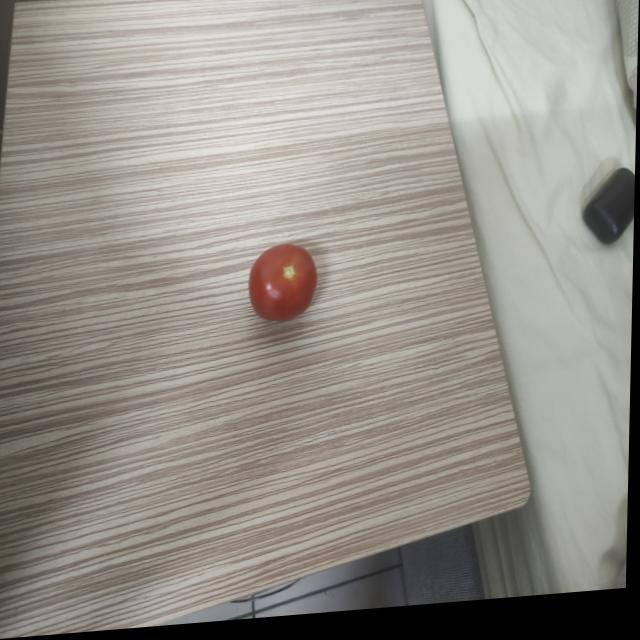kirmizi: (244, 249, 319, 344)
